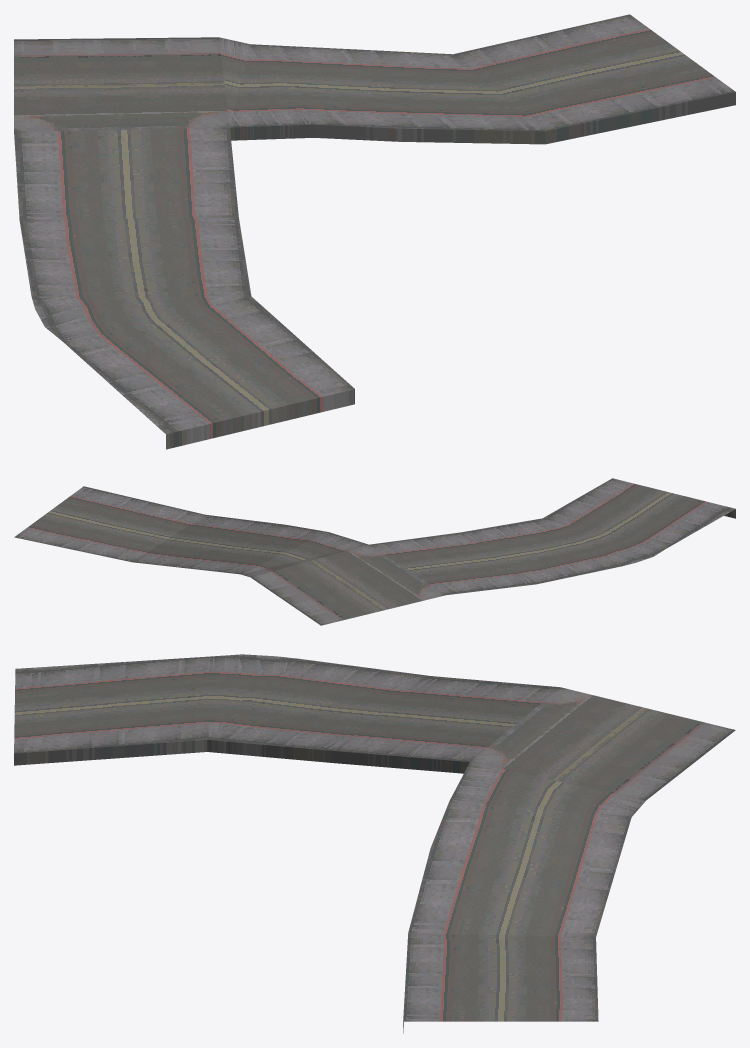
File: lodtbit_01b_sfs.obj
The picture shows the model from 3 angles, top to bottom: view 1: azimuth 30°, elevation 25°; view 2: azimuth 150°, elevation 25°; view 3: azimuth 270°, elevation 25°; orthographic projection. The views are drawn at different scales.
Parts seen in each view (by area): view 1: LODtbit_01b_SFS; view 2: LODtbit_01b_SFS; view 3: LODtbit_01b_SFS.
Part boxes in pixels (x1=…): LODtbit_01b_SFS: x1=14, y1=14, x2=735, y2=449; LODtbit_01b_SFS: x1=14, y1=478, x2=735, y2=625; LODtbit_01b_SFS: x1=14, y1=654, x2=735, y2=1033.
Size of the model in its own units: 84.97 by 6.83 by 73.91.
Materials: 2 (2 with a texture image).
